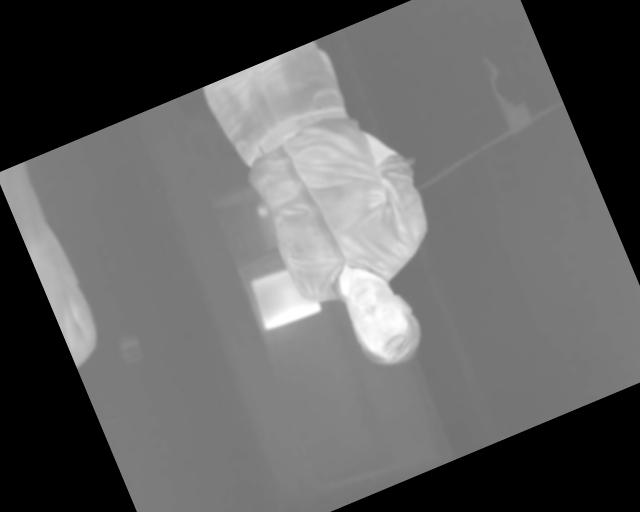face: (332, 262, 431, 376)
